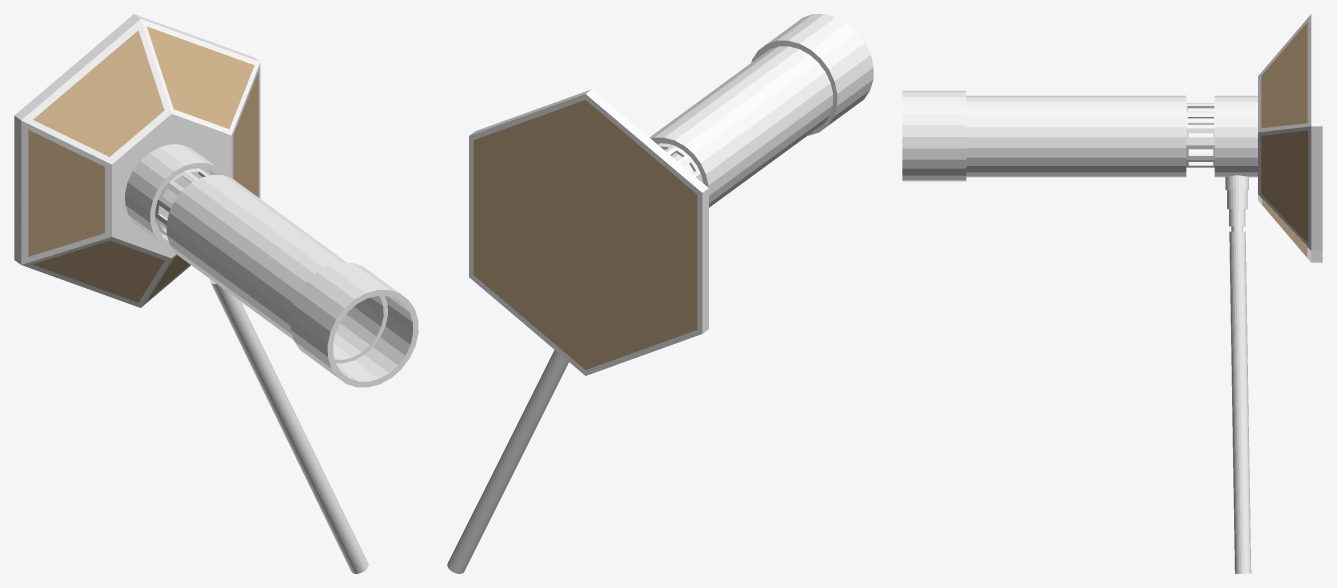
3 views of the same model, side by side, from view 1: azimuth 30°, elevation 25°; view 2: azimuth 150°, elevation 25°; view 3: azimuth 270°, elevation 25° (orthographic). The views are drawn at different scales.
Parts seen in each view (by area): view 1: bunsen burner; view 2: bunsen burner; view 3: bunsen burner.
Part boxes in pixels (x1=…): bunsen burner: x1=14, y1=14, x2=418, y2=573; bunsen burner: x1=447, y1=14, x2=873, y2=573; bunsen burner: x1=902, y1=14, x2=1322, y2=573.
Size of the model in its own units: 512 by 906 by 708.
